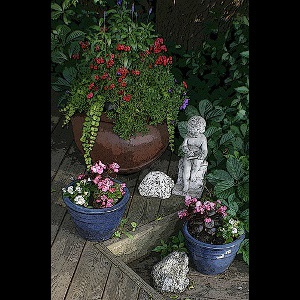flowerpot: (68, 97, 175, 176), (63, 177, 132, 241), (183, 210, 245, 275)
